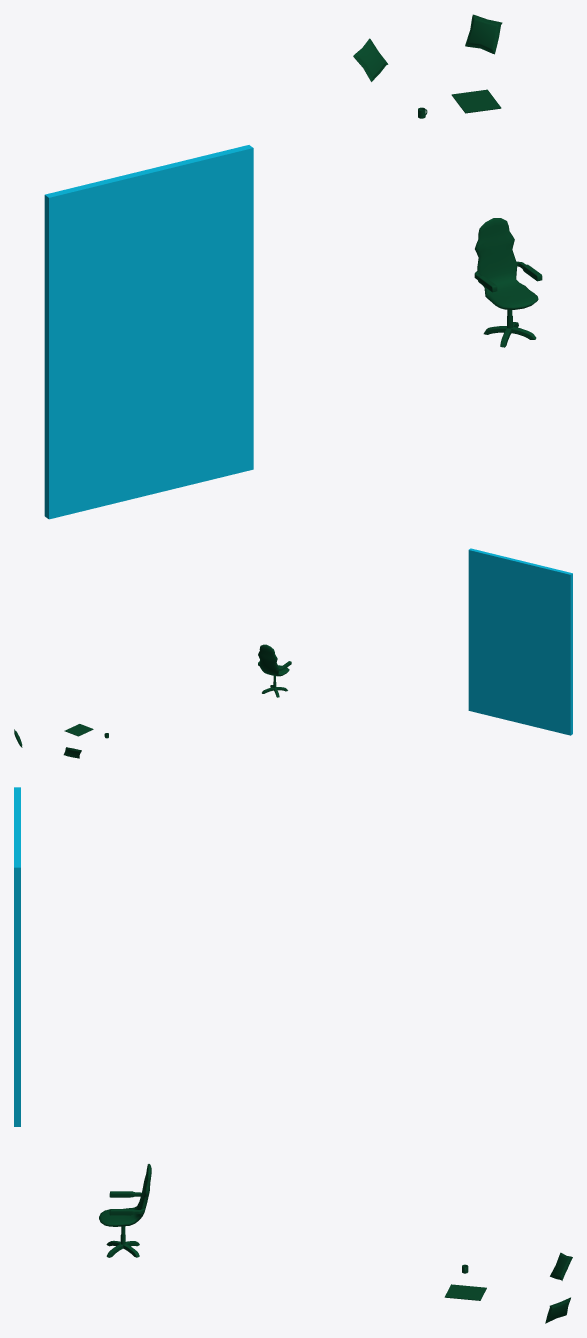
The model's file is moveables.fbx.
The picture shows the model from 3 angles, top to bottom: view 1: azimuth 30°, elevation 25°; view 2: azimuth 150°, elevation 25°; view 3: azimuth 270°, elevation 25°; orthographic projection. The views are drawn at different scales.
Visible parts, largest first — view 1: slidedoorback, silla, cushion, hoja, cushion2; view 2: slidedoorback, silla; view 3: slidedoorback, silla.
Part boxes in pixels (<box>): slidedoorback: <box>44,145,253,519</box>; silla: <box>474,218,542,309</box>; cushion: <box>465,14,502,54</box>; hoja: <box>451,89,501,113</box>; cushion2: <box>353,38,388,81</box>; slidedoorback: <box>468,548,572,735</box>; silla: <box>258,644,291,676</box>; slidedoorback: <box>14,787,20,1126</box>; silla: <box>99,1164,151,1226</box>.
Size of the model in its own units: 12.99 by 5.08 by 9.92.
